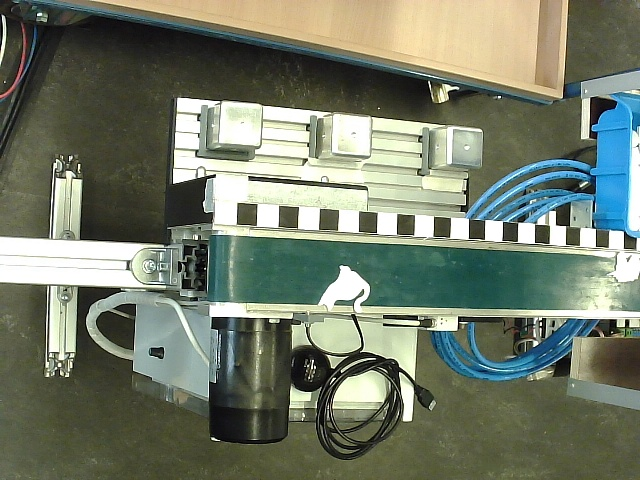cat: (318, 264, 371, 315)
unicorn: (606, 251, 639, 284)
